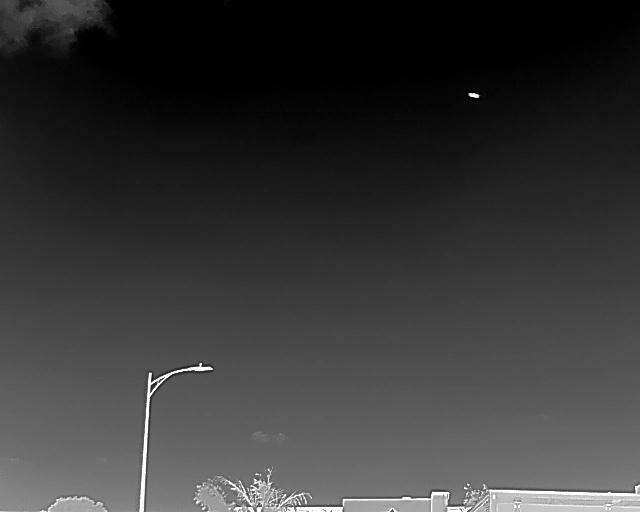fpv-drone: (467, 92, 480, 98)
